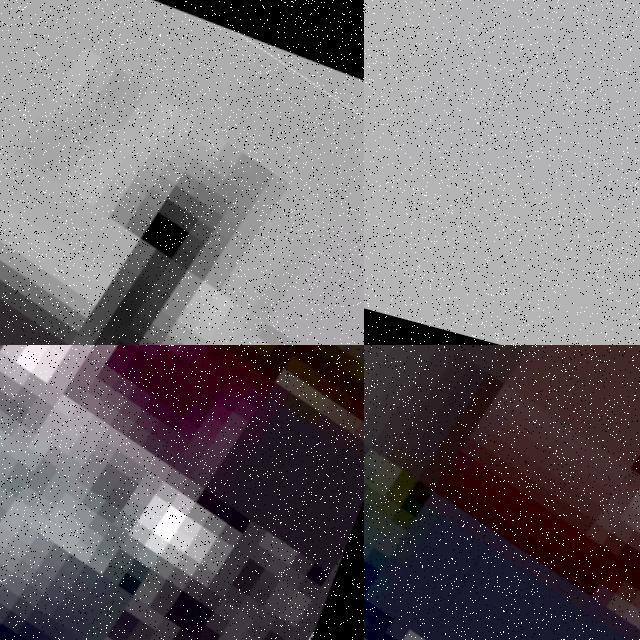drone: (0, 0, 364, 345), (0, 345, 364, 640), (364, 345, 640, 640)
